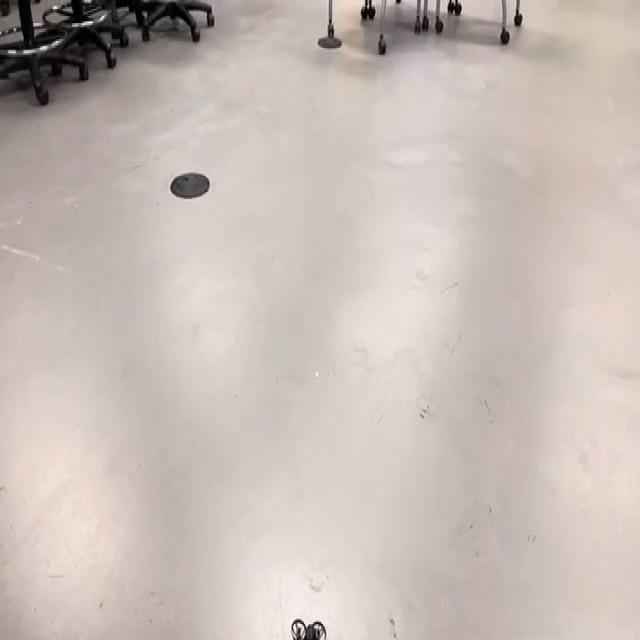drone: (285, 605, 332, 640)
